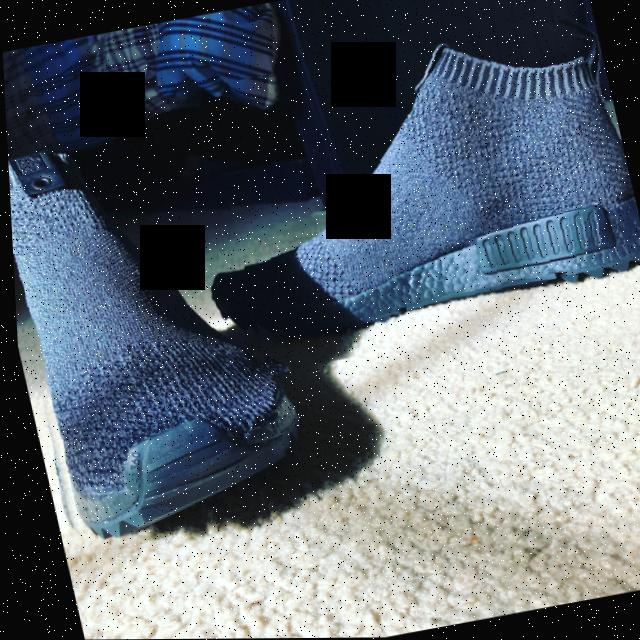shoe: (121, 14, 640, 392), (5, 119, 303, 594)
